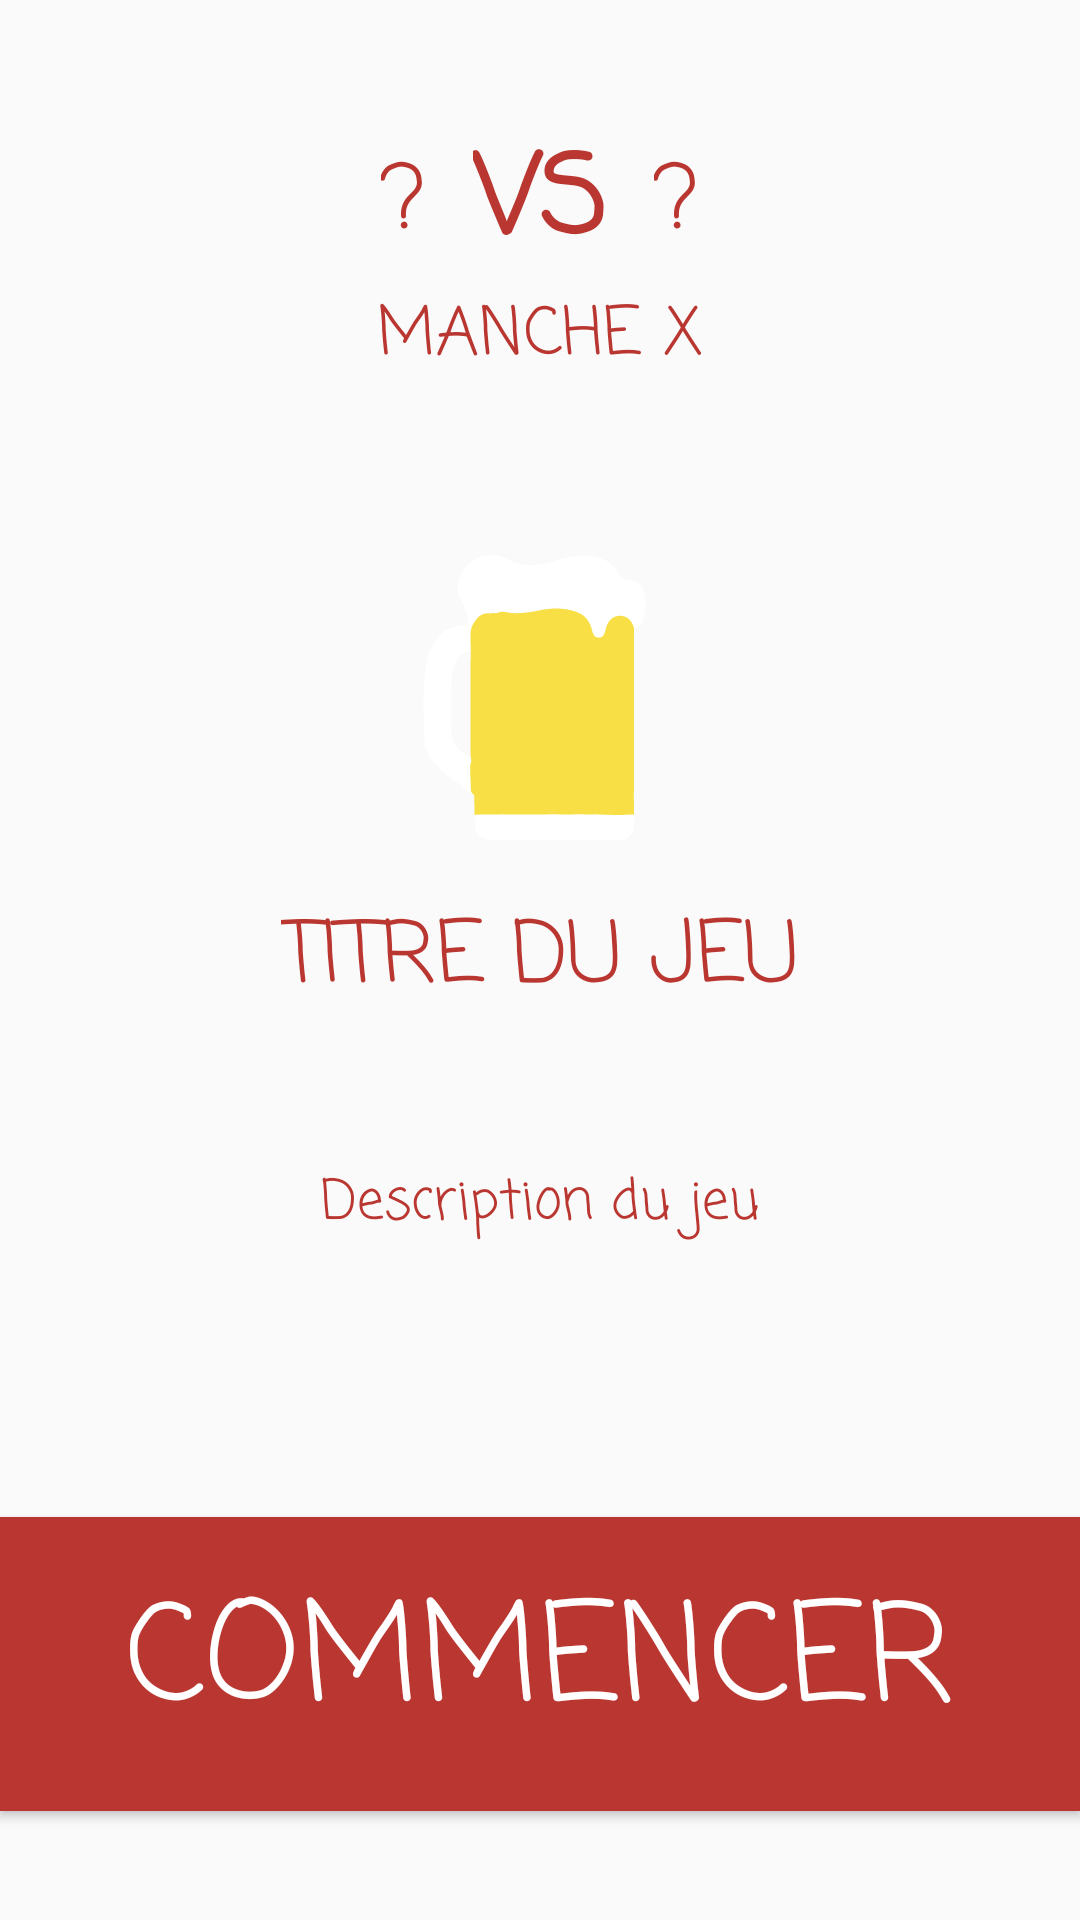

Icons on this 1080 x 1920 Android screen, each with its box as (x1=x1, y1=y1, x2=x2, y2=y2):
beer: (x1=470, y1=608, x2=634, y2=815)
